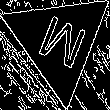M_SW: (30, 9, 88, 74)
